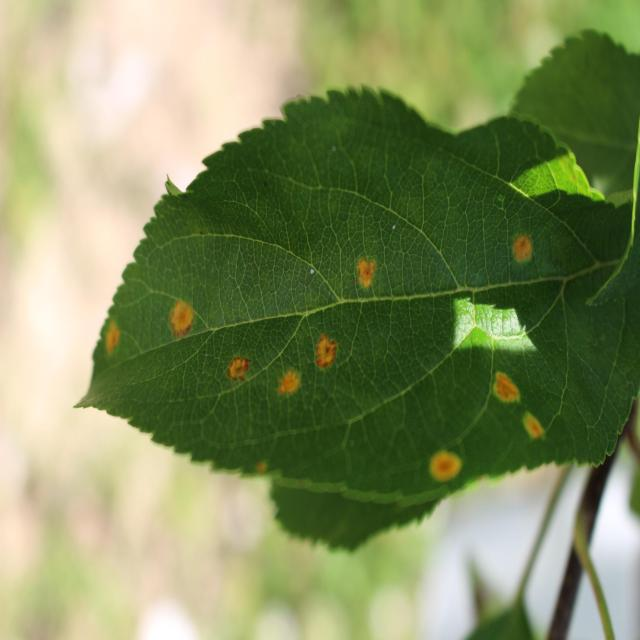rust: (72, 84, 636, 507)
